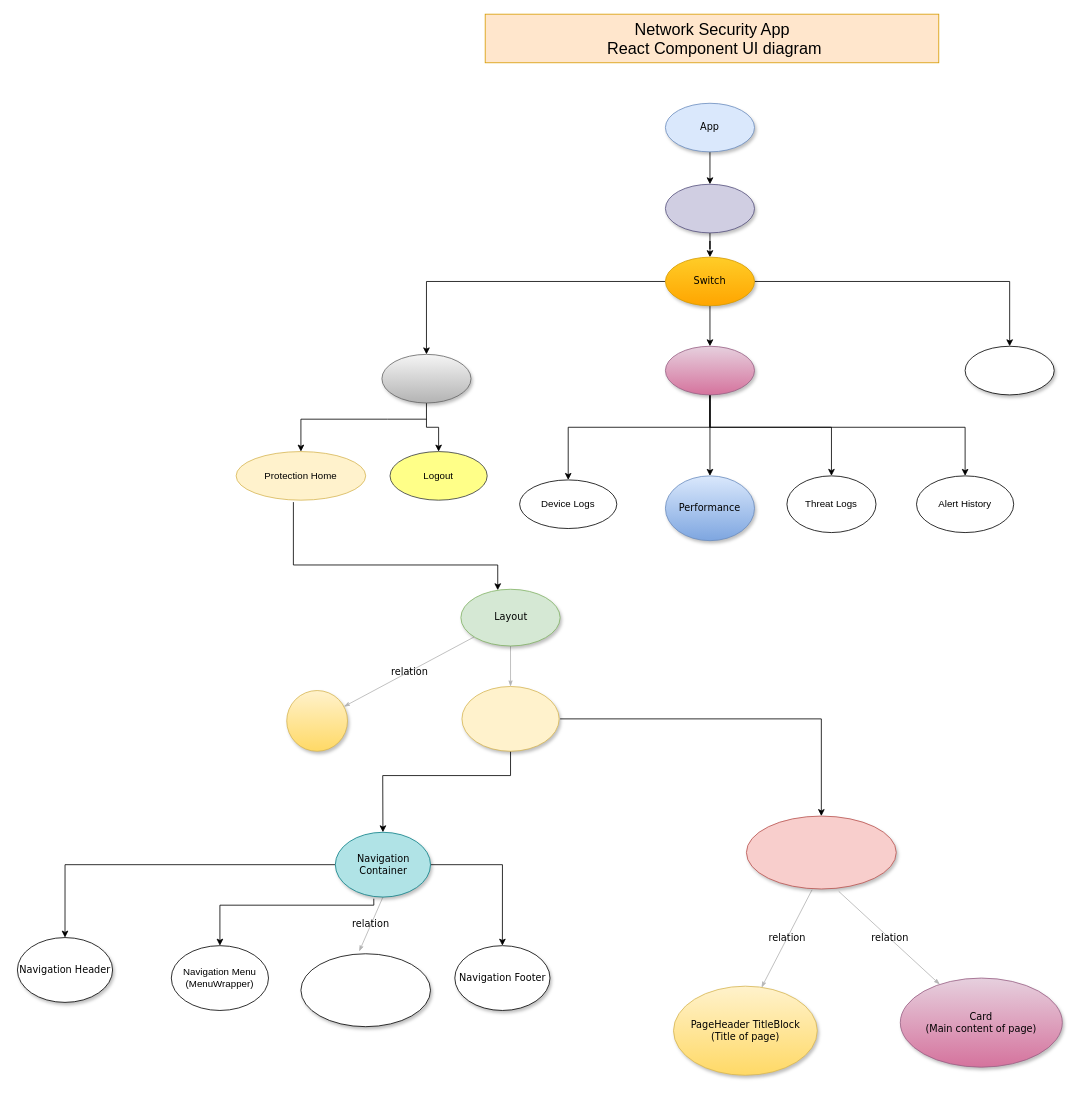
Image size: 1081x1095. Some labels were removed from this diagram. Here are the shapes that lost their labels. From the top down, the centre of each, then its label:
At [710,209]: "Landing Route".
At [427,379]: "Route".
At [710,371]: "Authenticated Route".
At [1010,371]: "Redirect".
At [317,721]: "Mobile Layout".
At [511,719]: "LeftNav".
At [821,853]: "Main Content (SideContentWrapper)".
At [366,991]: "Global Navigation with Context Switcher".
